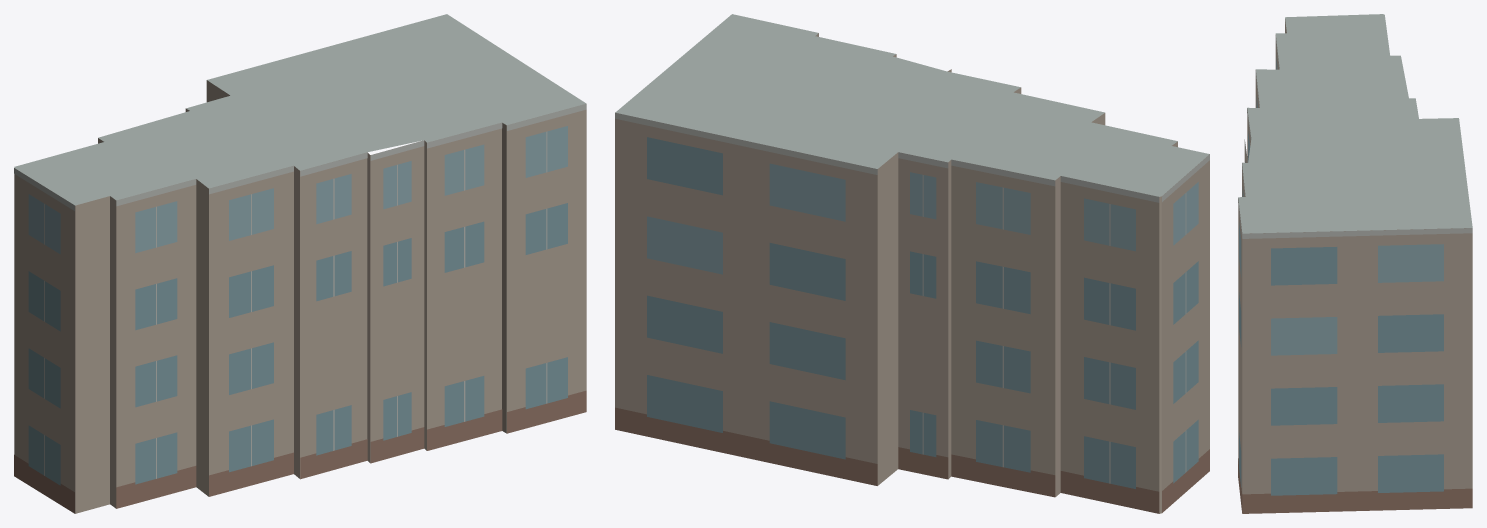
Rendered from survey-upis-32930652.glb.
3 views of the same model, side by side, from view 1: azimuth 30°, elevation 25°; view 2: azimuth 150°, elevation 25°; view 3: azimuth 270°, elevation 25° (orthographic). The views are drawn at different scales.
Visible parts, largest first — view 1: survey-upis-32930652.tmp; view 2: survey-upis-32930652.tmp; view 3: survey-upis-32930652.tmp.
Boxes of the visible parts, box(x1,y1,x2,y2) form: survey-upis-32930652.tmp: box(14, 14, 586, 513); survey-upis-32930652.tmp: box(615, 14, 1209, 513); survey-upis-32930652.tmp: box(1238, 14, 1472, 513).
Size of the model in its own units: 21.52 by 12.8 by 9.72.
